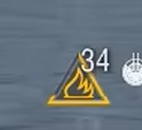1fire: (45, 75, 111, 106)
